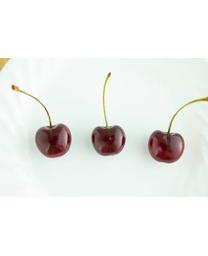cherry: (147, 129, 185, 164), (34, 124, 71, 159), (91, 124, 126, 156)
